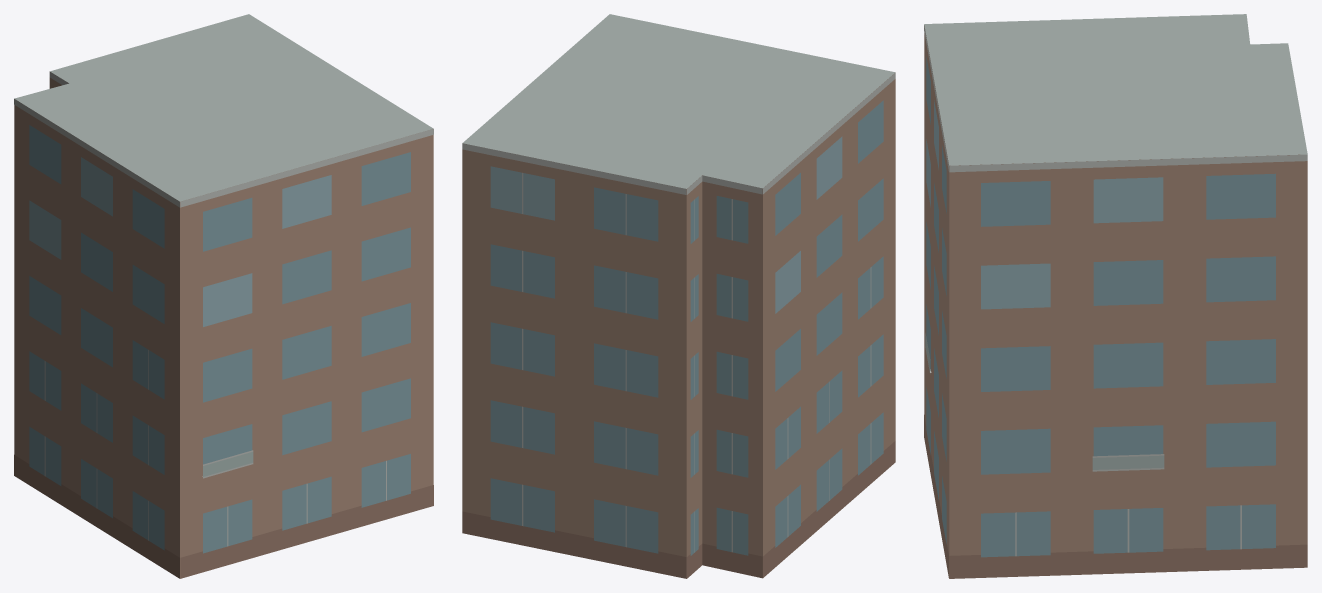
The model's file is survey-upis-32782030.glb.
The picture shows the model from 3 angles, left to right: view 1: azimuth 30°, elevation 25°; view 2: azimuth 150°, elevation 25°; view 3: azimuth 270°, elevation 25°; orthographic projection. The views are drawn at different scales.
Visible parts, largest first — view 1: survey-upis-32782030.tmp; view 2: survey-upis-32782030.tmp; view 3: survey-upis-32782030.tmp.
Boxes of the visible parts, box(x1,y1,x2,y2) form: survey-upis-32782030.tmp: box(14, 14, 433, 578); survey-upis-32782030.tmp: box(462, 14, 895, 578); survey-upis-32782030.tmp: box(924, 14, 1307, 578).
Bounding box in the file's own units: 12.06 × 15.3 × 12.89.
